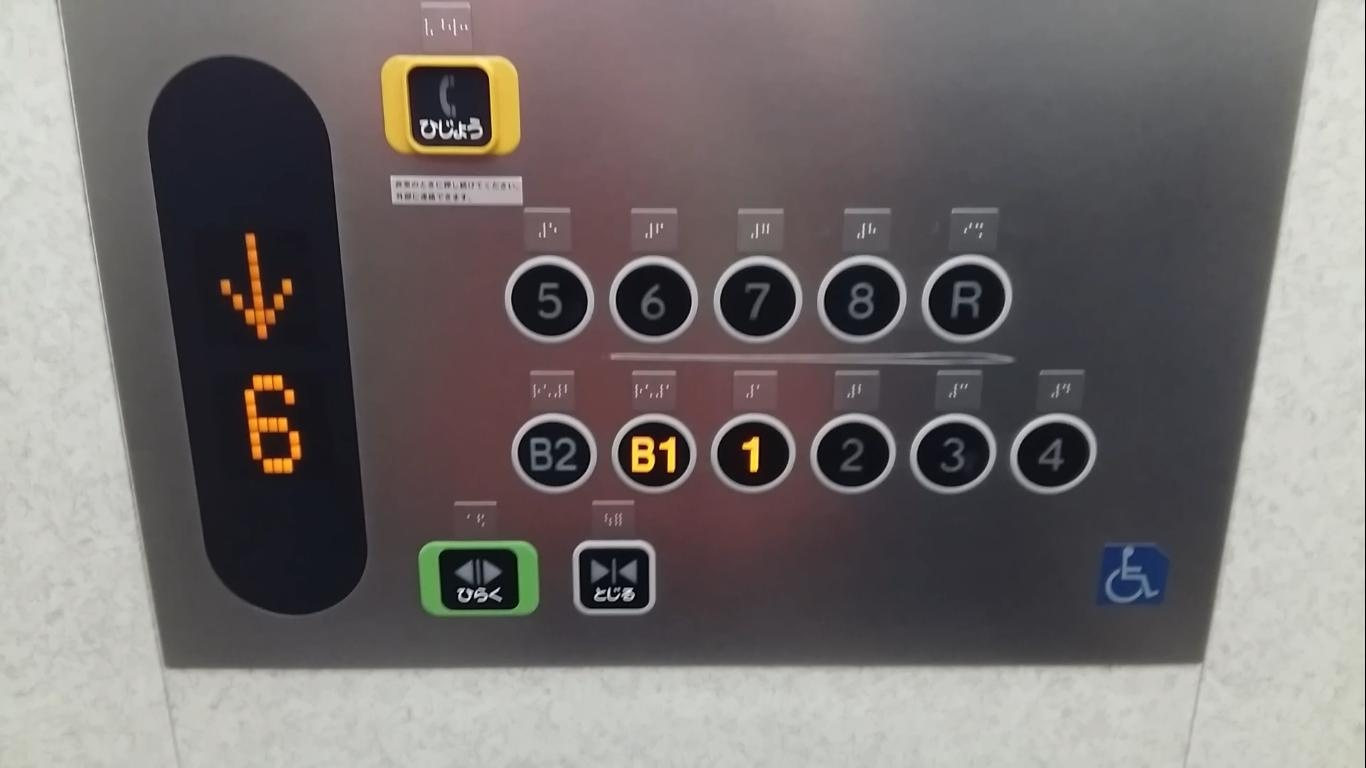1: (706, 403, 800, 501)
2: (805, 408, 900, 506)
3: (903, 406, 1001, 502)
4: (1004, 407, 1101, 501)
5: (496, 251, 603, 347)
6: (601, 252, 704, 351)
7: (702, 247, 809, 351)
8: (813, 242, 912, 349)
B1: (607, 406, 701, 497)
B2: (511, 405, 599, 499)
CH: (1096, 542, 1167, 606)
R: (910, 242, 1019, 354)
call: (375, 44, 524, 163)
close: (564, 529, 663, 627)
led: (145, 54, 373, 616)
open: (410, 530, 547, 623)
